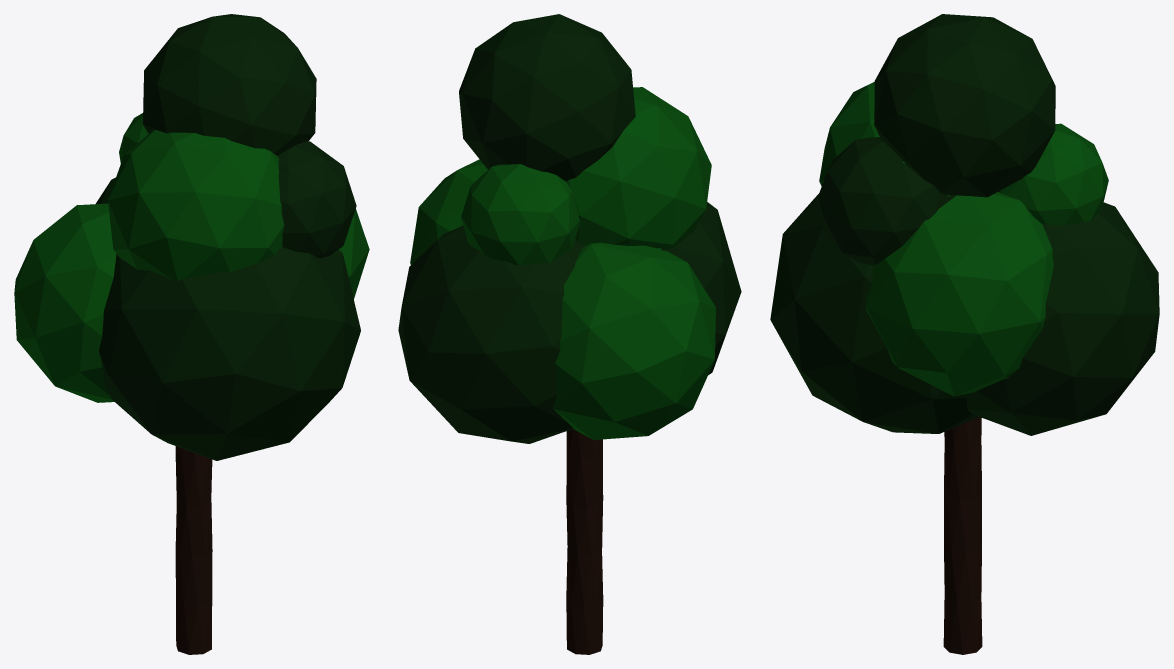
File: Tree06.fbx
3 views of the same model, side by side, from view 1: azimuth 30°, elevation 25°; view 2: azimuth 150°, elevation 25°; view 3: azimuth 270°, elevation 25° (orthographic). The views are drawn at different scales.
Parts seen in each view (by area): view 1: Crown, Trunk; view 2: Crown, Trunk; view 3: Crown, Trunk.
Part boxes in pixels (box(x1,y1,x2,y2)): Crown: box(14, 14, 369, 460); Trunk: box(175, 446, 212, 654); Crown: box(398, 14, 741, 443); Trunk: box(566, 429, 603, 654); Crown: box(770, 14, 1159, 435); Trunk: box(943, 417, 982, 654).
Size of the model in its own units: 173 by 332 by 182.
